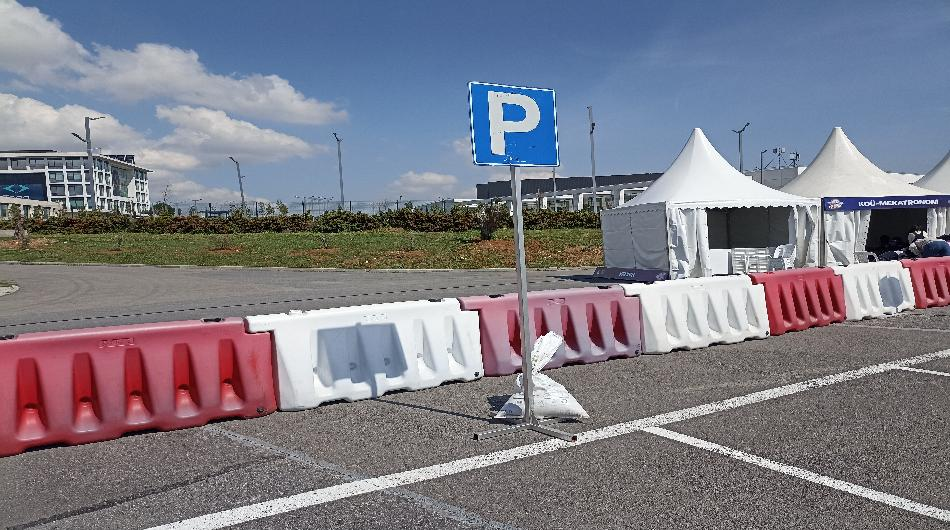park: (467, 81, 563, 170)
